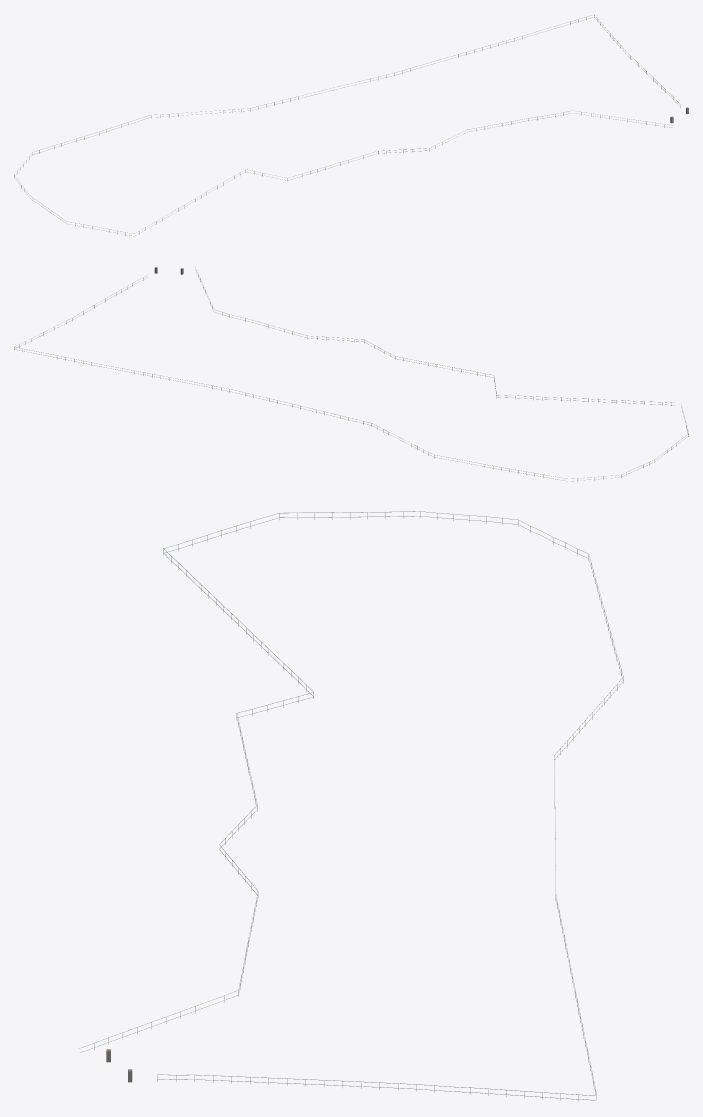
The picture shows the model from 3 angles, top to bottom: view 1: azimuth 30°, elevation 25°; view 2: azimuth 150°, elevation 25°; view 3: azimuth 270°, elevation 25°; orthographic projection. The views are drawn at different scales.
Parts seen in each view (by area): view 1: school-boundary-fence; view 2: school-boundary-fence; view 3: school-boundary-fence.
Part boxes in pixels (bbox=[...]): school-boundary-fence: bbox=[14, 14, 680, 236]; school-boundary-fence: bbox=[14, 267, 688, 481]; school-boundary-fence: bbox=[79, 511, 623, 1101].
Size of the model in its own units: 202 by 2.2 by 79.66.
2 materials, 1 textured.
